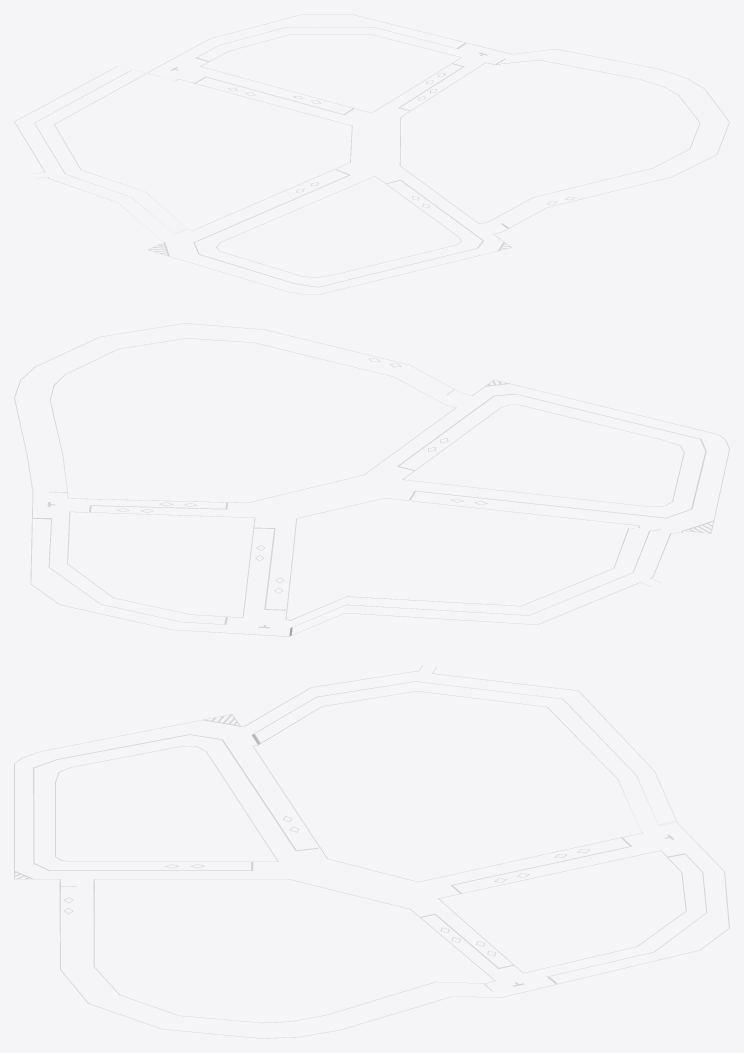
File: kd_stage_1364a3_12_0.glb
The picture shows the model from 3 angles, top to bottom: view 1: azimuth 30°, elevation 25°; view 2: azimuth 150°, elevation 25°; view 3: azimuth 270°, elevation 25°; orthographic projection. The views are drawn at different scales.
Visible parts, largest first — view 1: kd_stage_1364a3_12_0; view 2: kd_stage_1364a3_12_0; view 3: kd_stage_1364a3_12_0.
Boxes of the visible parts, x1,y1,x2,y2 form: kd_stage_1364a3_12_0: (14, 14, 729, 294); kd_stage_1364a3_12_0: (14, 323, 729, 636); kd_stage_1364a3_12_0: (14, 665, 729, 1038).
Size of the model in its own units: 112 by 4.07 by 93.64.
1 material, 1 textured.
